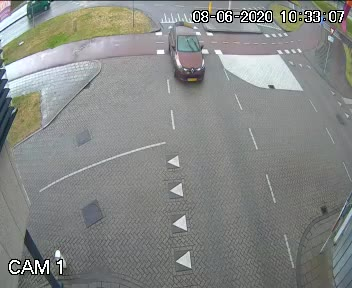car: (166, 20, 208, 91), (17, 0, 51, 23)
